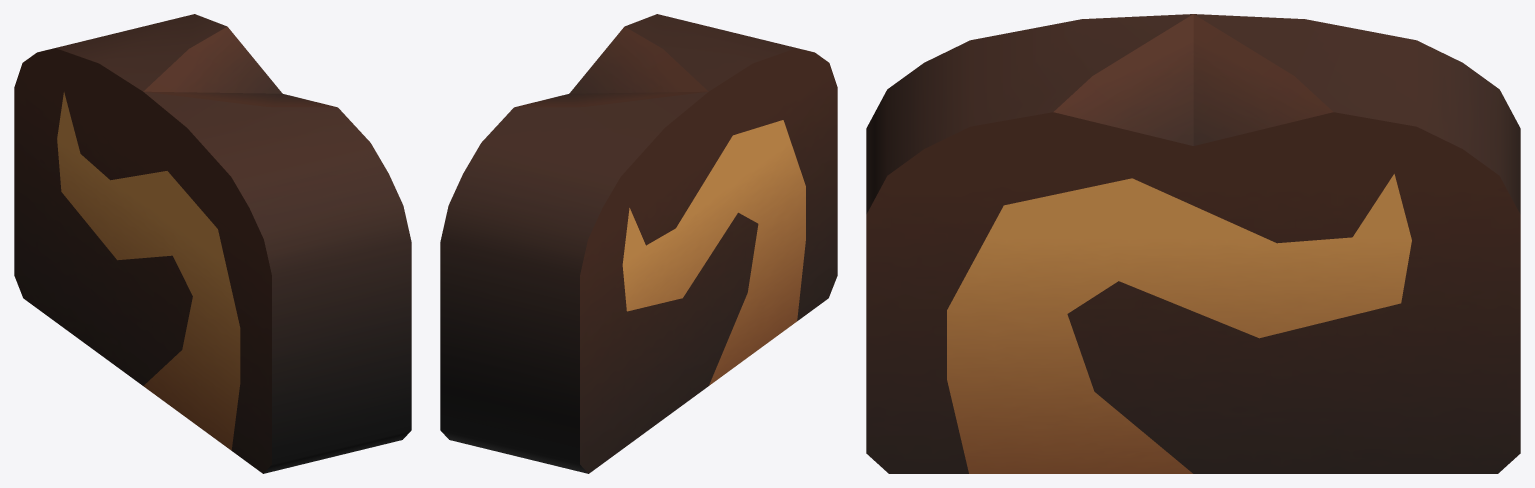
File: m_LoafCake03_Slice02.fbx
3 renders of one model, left to right at view 1: azimuth 30°, elevation 25°; view 2: azimuth 150°, elevation 25°; view 3: azimuth 270°, elevation 25°, orthographic. The views are drawn at different scales.
Parts seen in each view (by area): view 1: m_LoafCake03_Slice02; view 2: m_LoafCake03_Slice02; view 3: m_LoafCake03_Slice02.
Part boxes in pixels (x1=…): m_LoafCake03_Slice02: x1=14, y1=14, x2=411, y2=473; m_LoafCake03_Slice02: x1=440, y1=14, x2=837, y2=473; m_LoafCake03_Slice02: x1=866, y1=14, x2=1520, y2=473.
Size of the model in its own units: 5 by 10.08 by 16.
